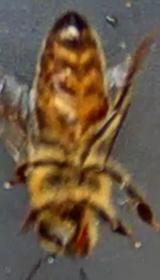varroa_mite: (84, 92, 109, 126)
